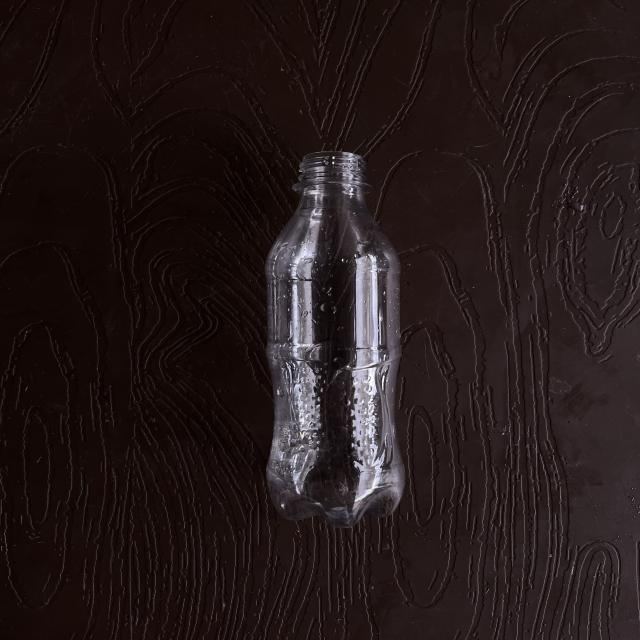PET_With_Liquid: (267, 153, 404, 526)
